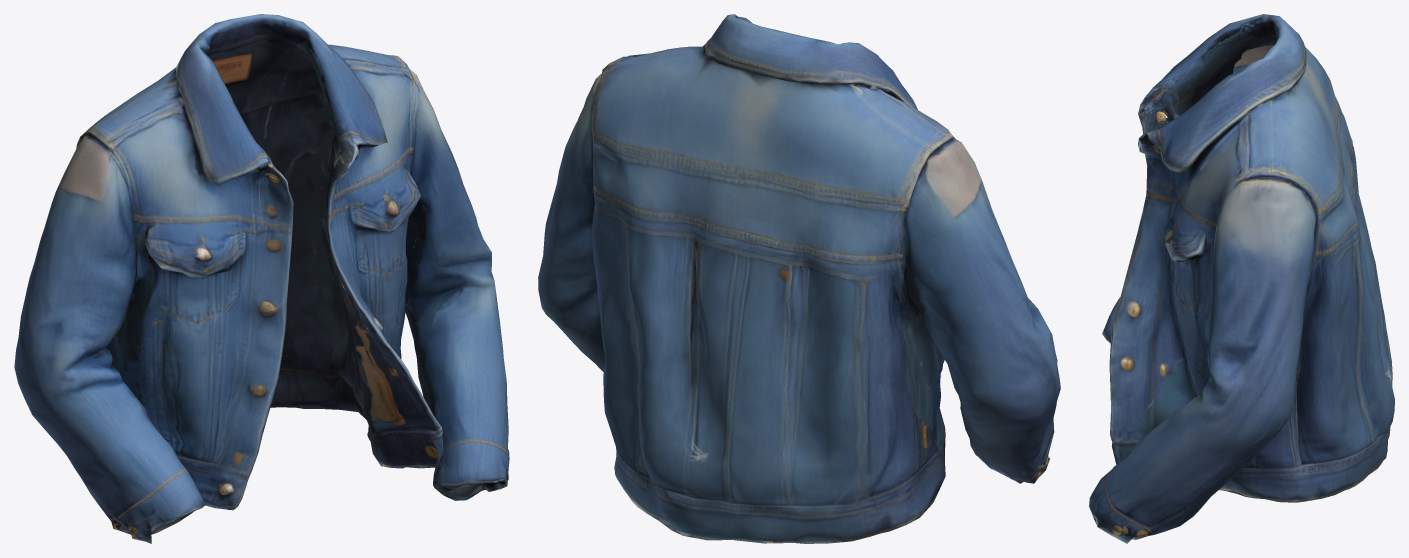
Rendered from Denim_Elegance.glb.
The picture shows the model from 3 angles, left to right: view 1: azimuth 30°, elevation 25°; view 2: azimuth 150°, elevation 25°; view 3: azimuth 270°, elevation 25°; orthographic projection. The views are drawn at different scales.
Size of the model in its own units: 2.01 by 1.94 by 1.22.
1 material, 1 textured.
